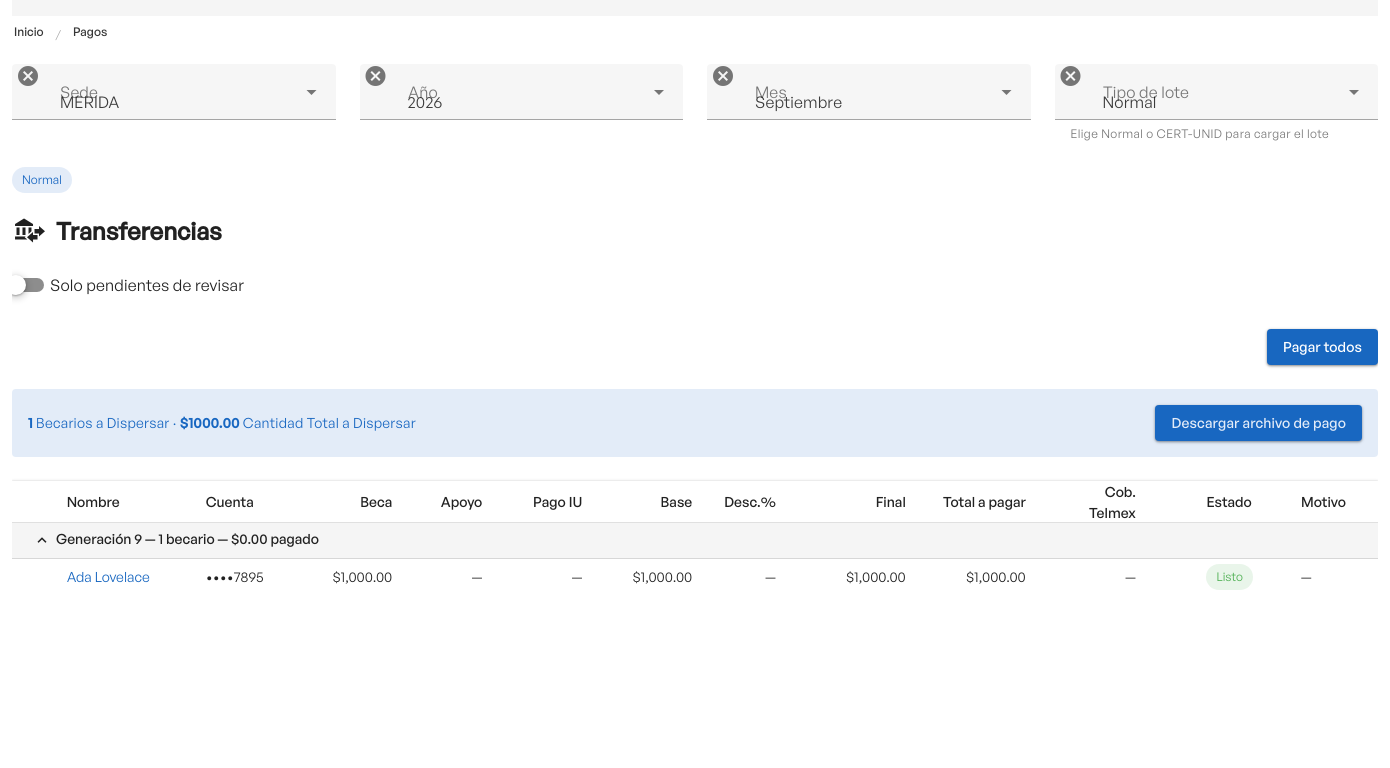
PaymentsView › bank-file export (sdd/becario-payment-bank-file-export) › lists each blocked becario by name with its reason when the download is rejected with 422
Click the button "Descargar archivo de pago" at coordinates (1259, 423), box [1156,405,1362,441]
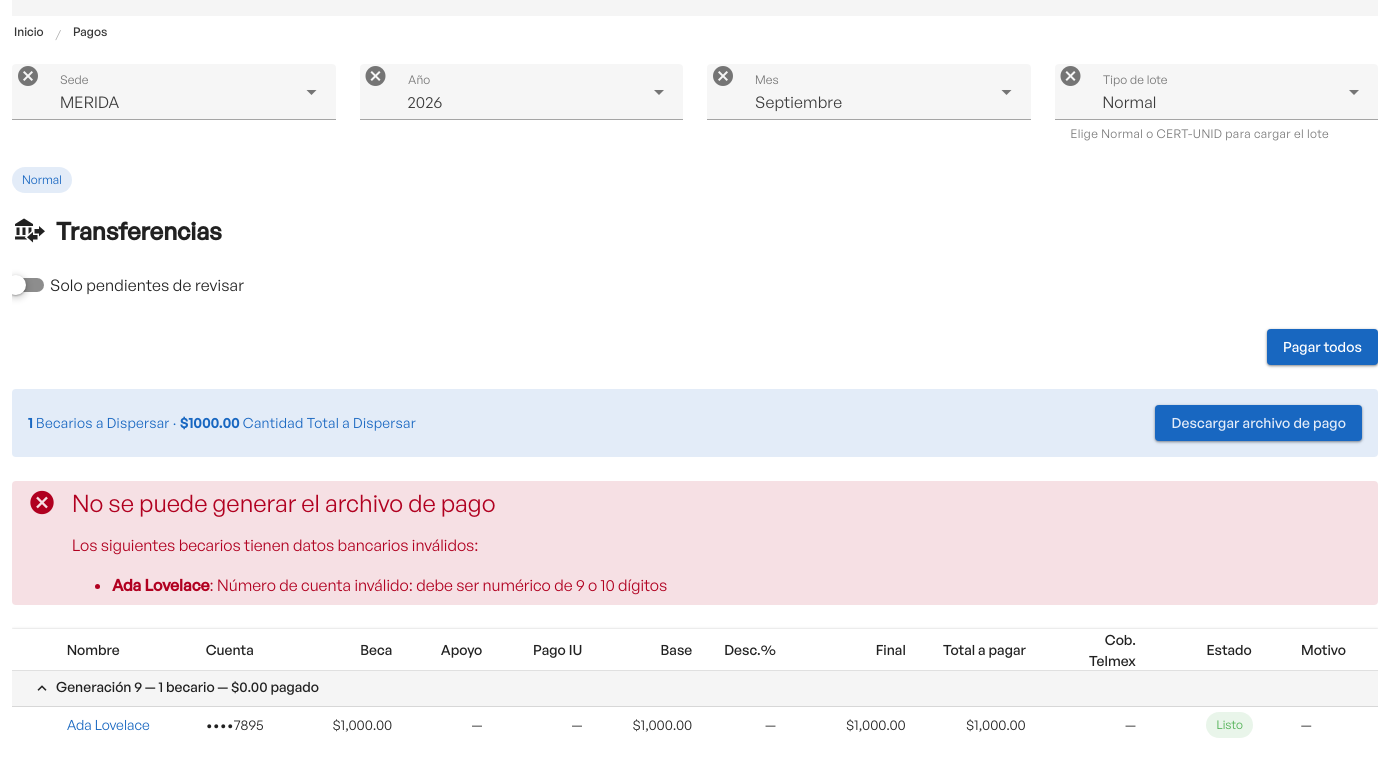
Expected: the text "Ada Lovelace" is shown, [112,575,210,595]
Result: the text "Número de cuenta inválido: debe ser numérico de 9 o 10 dígitos" is shown at [210,575,667,595]
